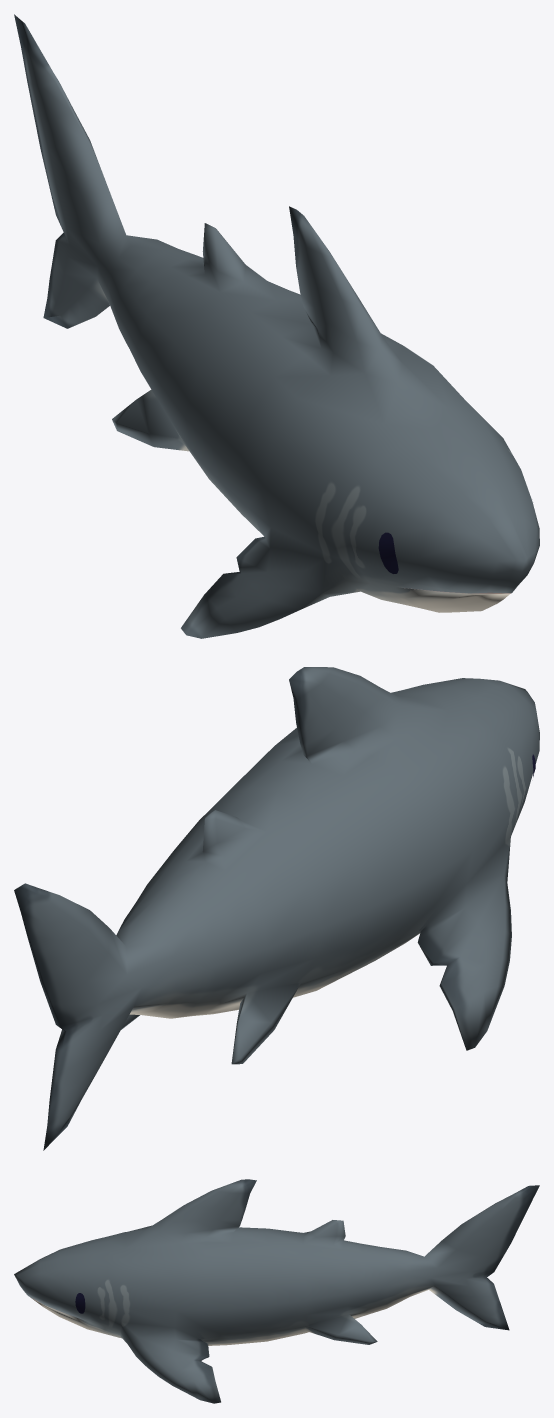
The model's file is Shark.glb.
3 renders of one model, top to bottom at view 1: azimuth 30°, elevation 25°; view 2: azimuth 150°, elevation 25°; view 3: azimuth 270°, elevation 25°, orthographic. The views are drawn at different scales.
Visible parts, largest first — view 1: shark.001; view 2: shark.001; view 3: shark.001.
Boxes of the visible parts, <box> form: shark.001: <box>14,14,539,638</box>; shark.001: <box>14,667,539,1150</box>; shark.001: <box>14,1179,539,1403</box>.
Size of the model in its own units: 2.21 by 2.67 by 6.76.
2 materials, 1 textured.
